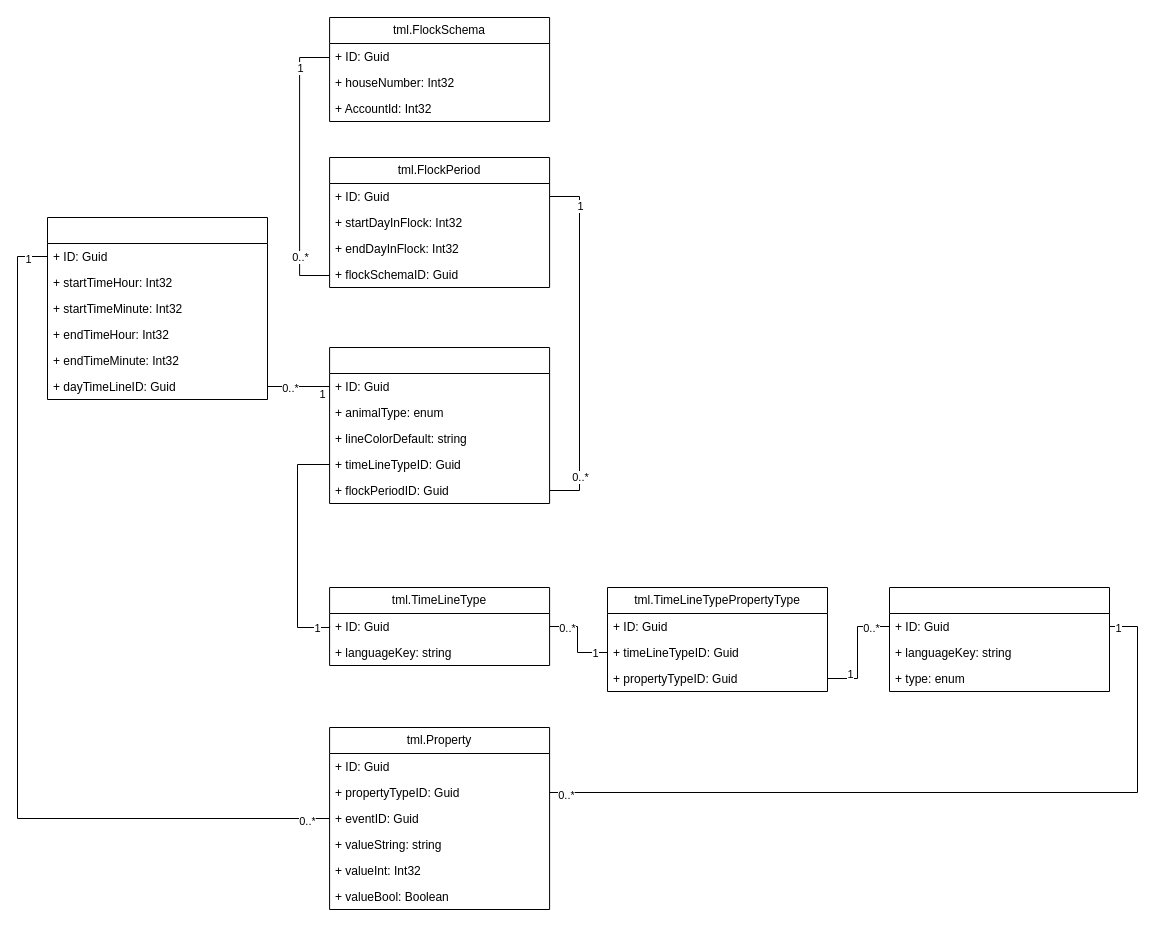
The diagram is 1156 pixels wide and 930 high, and some of its shapes have lost their labels. The box of each missing label's shape, as (x1, y1, x2, y2) in pixels:
tml.DayTimeLine: (329, 346, 550, 504)
tml.Event: (46, 216, 268, 400)
tml.PropertyType: (888, 586, 1110, 692)
